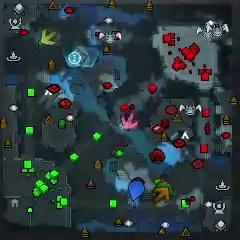p1: (128, 181, 144, 201)
x1: (120, 111, 139, 130)
x2: (42, 28, 56, 45)
x4: (155, 180, 173, 194)
x5: (152, 186, 171, 204)
